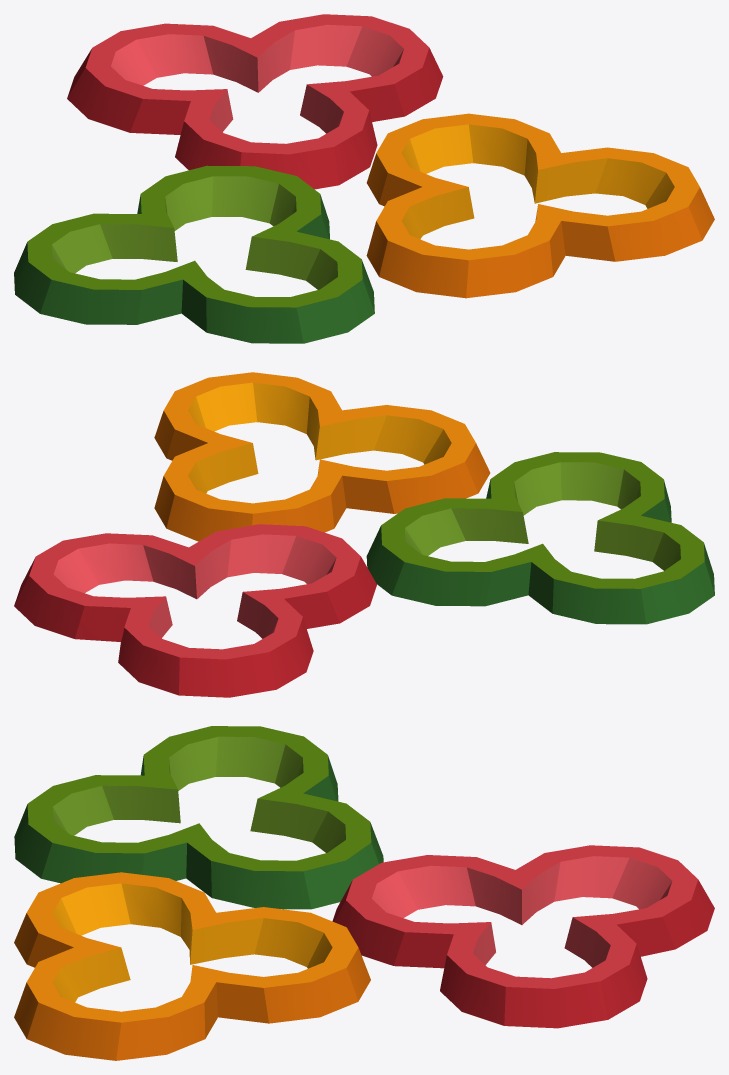
The model's file is Pepper_Slice.glb.
3 views of the same model, one above another, from view 1: azimuth 30°, elevation 25°; view 2: azimuth 150°, elevation 25°; view 3: azimuth 270°, elevation 25° (orthographic). The views are drawn at different scales.
Parts seen in each view (by area): view 1: Pepper_Slice; view 2: Pepper_Slice; view 3: Pepper_Slice.
Boxes of the visible parts, x1,y1,x2,y2 form: Pepper_Slice: [14, 14, 714, 343]; Pepper_Slice: [14, 372, 714, 697]; Pepper_Slice: [14, 726, 714, 1060].
Size of the model in its own units: 20.29 by 1 by 19.52.
1 material, 1 textured.
